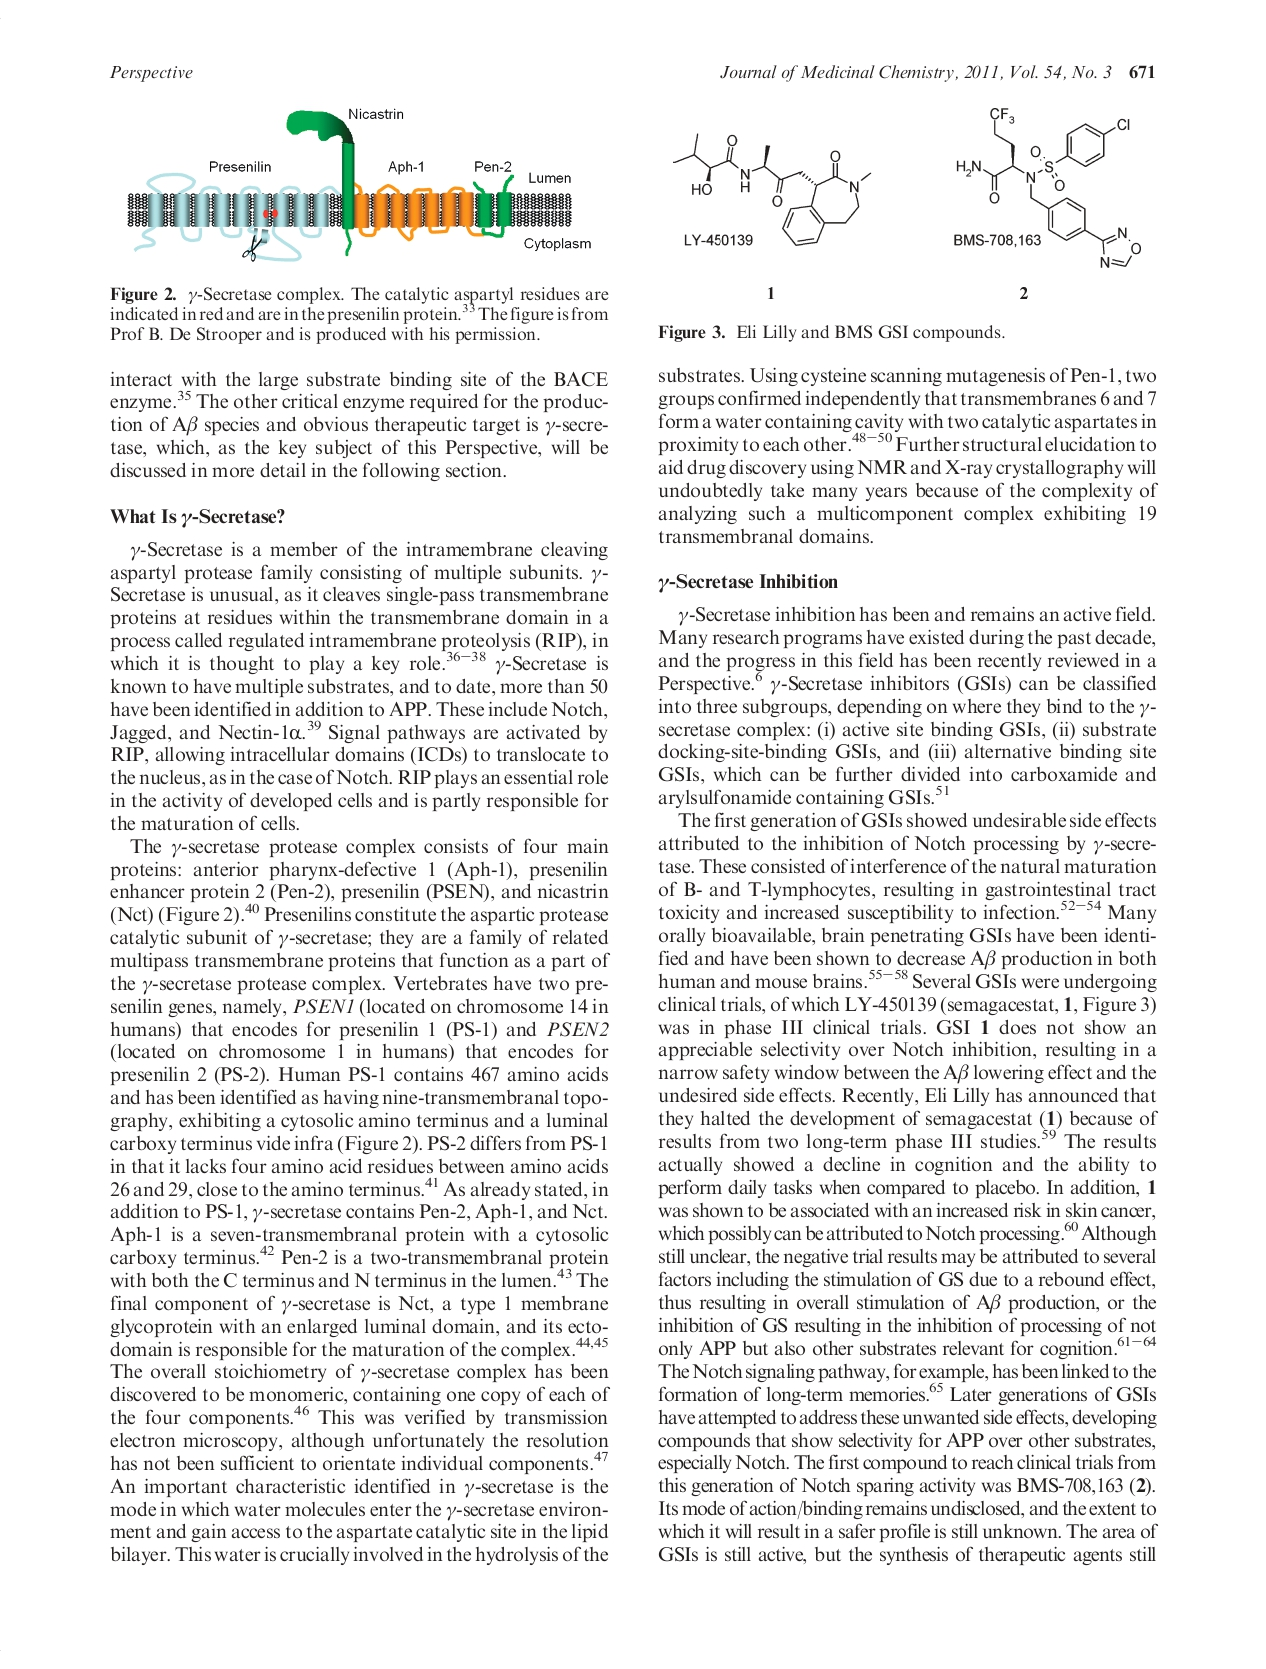exist_molecular: (953, 102, 1142, 270), (666, 122, 878, 250)
